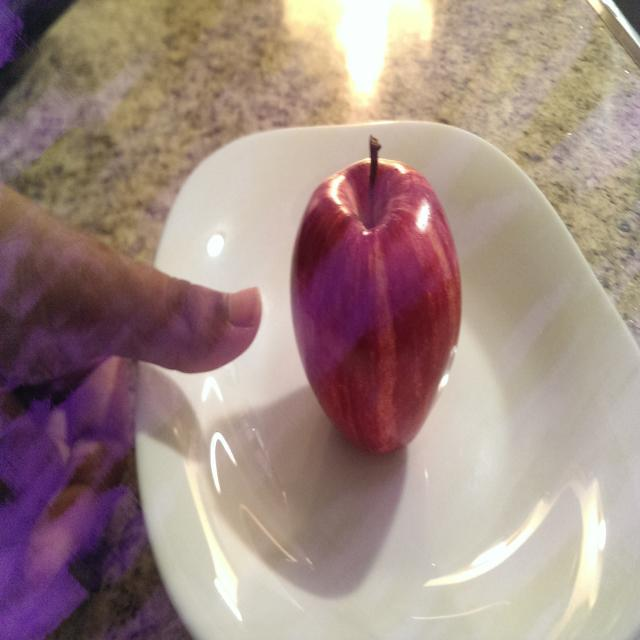Apple: (285, 130, 471, 464)
Finger: (167, 272, 266, 378)
